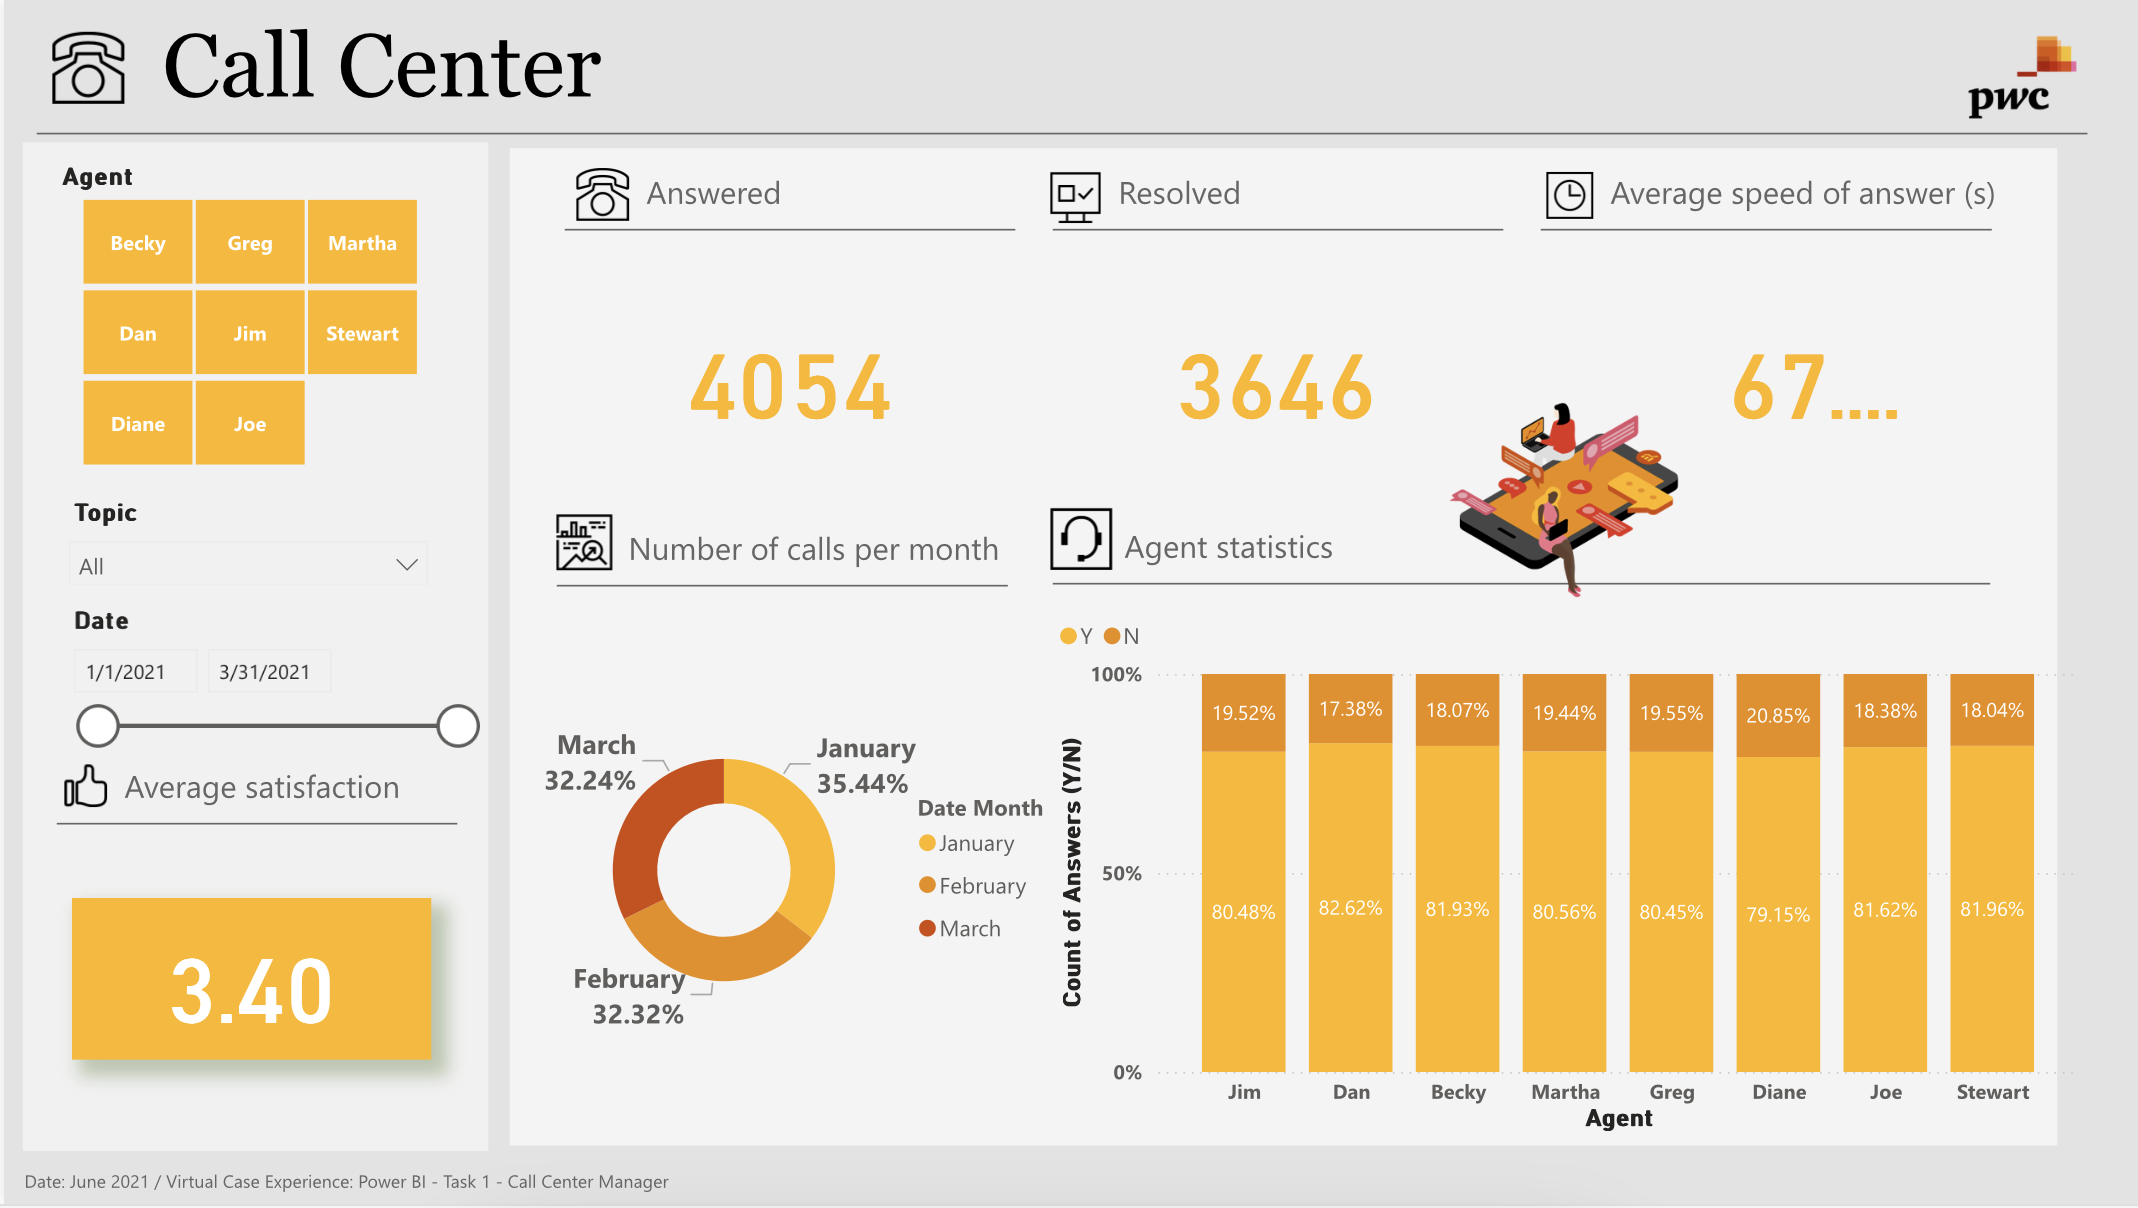

What the dashboard file says about the page in this screenshot:
{"tool":"powerbi","page":{"name":"Call Center Manager","canvas":[1280,720],"ordinal":0},"visuals":[{"type":"textbox","box":[89.7,4.8,1172,75.2],"z":0},{"type":"basicShape","box":[9,61,1244.3,40.1],"z":1000},{"type":"basicShape","box":[8.7,80.1,283.6,614.4],"z":2000},{"type":"basicShape","box":[292.6,83.8,942.7,607.6],"z":3000},{"type":"image","box":[1129,0,151,94.5],"z":4000},{"type":"image","box":[24.1,7.7,53,68.5],"z":5000},{"type":"image","box":[31.1,452.4,35.7,35.7],"z":6000},{"type":"textbox","box":[66.8,452.4,188.1,35.7],"z":7000},{"type":"basicShape","box":[21.2,472.5,259.1,40.2],"z":8000},{"type":"textbox","box":[378.6,98.3,172,35.7],"z":9000},{"type":"textbox","box":[660.1,98.3,183.2,35.7],"z":10000},{"type":"basicShape","box":[907,118.4,289.3,40.2],"z":11000},{"type":"textbox","box":[953.9,98.3,250.2,35.7],"z":12000},{"type":"basicShape","box":[325,118.4,289,40.2],"z":13000},{"type":"basicShape","box":[616,118.4,289,40.2],"z":14000},{"type":"image","box":[915.9,88.2,38,59.2],"z":15000},{"type":"image","box":[337.3,94.9,41.3,43.6],"z":16000},{"type":"image","box":[619.9,88.2,40.2,61.4],"z":17000},{"type":"textbox","box":[367.4,310.4,250.2,35.7],"z":18000},{"type":"basicShape","box":[320.5,330.6,289.3,40.2],"z":19000},{"type":"textbox","box":[663.4,309.3,250.2,35.7],"z":20000},{"type":"basicShape","box":[616.5,329.5,579.7,40.2],"z":21000},{"type":"image","box":[619.9,294.9,46.9,55.9],"z":22000},{"type":"image","box":[325,290.4,43.6,69.2],"z":23000},{"type":"image","box":[800.6,197.7,278.8,187.1],"z":24000},{"type":"textbox","box":[7.7,691.6,403.2,28],"z":25000},{"type":"card","fields":{"Values":["Call Center.Y"]},"box":[396.4,173.4,145.3,104],"z":26000},{"type":"card","fields":{"Values":["Call Center.Resolved_Y"]},"box":[687.1,173.4,145.3,104],"z":27000},{"type":"card","fields":{"Values":["Call Center.Speed of answer in seconds"]},"box":[1007.5,173.4,145.3,104],"z":28000},{"type":"slicer","fields":{"Values":["Call Center.Agent"]},"box":[21.6,95,249.1,190.1],"z":29000},{"type":"donutChart","fields":{"Y":["Call Center.Call Id"],"Category":["Call Center.Date.Variation.Date Hierarchy.Month"]},"box":[309.6,370.1,334.1,301],"z":31000},{"type":"hundredPercentStackedColumnChart","fields":{"Category":["Call Center.Agent"],"Y":["Call Center.Y","Call Center.N"]},"box":[625,360,619.2,321.1],"z":32000},{"type":"slicer","fields":{"Values":["Call Center.Topic"]},"box":[28.8,296.6,234.7,54.7],"z":33000},{"type":"slicer","fields":{"Values":["Call Center.Date"]},"box":[28.8,360,263.5,207.4],"z":34000},{"type":"card","fields":{"Values":["Call Center.Satisfaction rating"]},"box":[40.3,537.1,214.6,96.5],"z":34001}]}

Visuals, with their boxes in screenshot pixels (x1, y1, x2, y2), scaled from the page's 1280x720 canvas onto the 2138x1208 screenshot:
textbox: 150/8/2107/134
basicShape: 15/102/2093/170
basicShape: 15/134/488/1165
basicShape: 489/141/2063/1160
image: 1886/0/2137/159
image: 40/13/129/128
image: 52/759/112/819
textbox: 112/759/426/819
basicShape: 35/793/468/860
textbox: 632/165/920/225
textbox: 1103/165/1409/225
basicShape: 1515/199/1998/266
textbox: 1593/165/2011/225
basicShape: 543/199/1026/266
basicShape: 1029/199/1512/266
image: 1530/148/1593/247
image: 563/159/632/232
image: 1035/148/1103/251
textbox: 614/521/1032/581
basicShape: 535/555/1019/622
textbox: 1108/519/1526/579
basicShape: 1030/553/1998/620
image: 1035/495/1114/589
image: 543/487/616/603
image: 1337/332/1803/646
textbox: 13/1160/686/1207
card - Call Center.Y: 662/291/905/465
card - Call Center.Resolved_Y: 1148/291/1390/465
card - Call Center.Speed of answer in seconds: 1683/291/1926/465
slicer - Call Center.Agent: 36/159/452/478
donutChart - Call Center.Call Id x Call Center.Date.Variation.Date Hierarchy.Month: 517/621/1075/1126
hundredPercentStackedColumnChart - Call Center.Agent x Call Center.Y: 1044/604/2078/1143
slicer - Call Center.Topic: 48/498/440/589
slicer - Call Center.Date: 48/604/488/952
card - Call Center.Satisfaction rating: 67/901/426/1063
